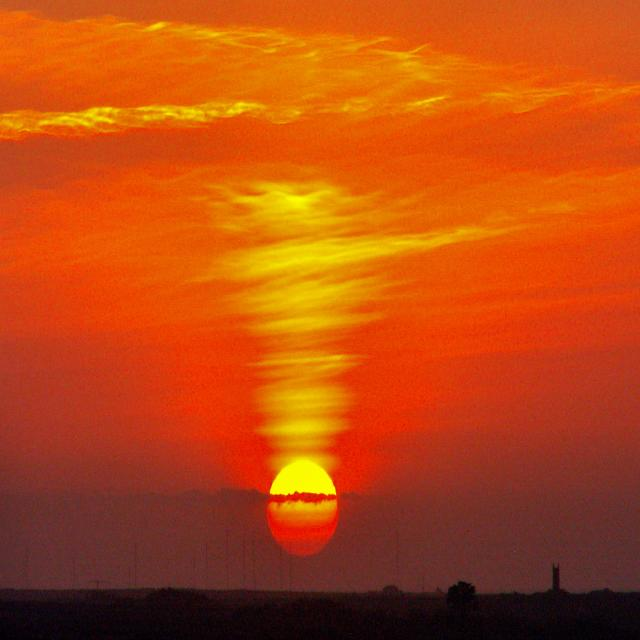no_fire: (4, 41, 534, 567)
